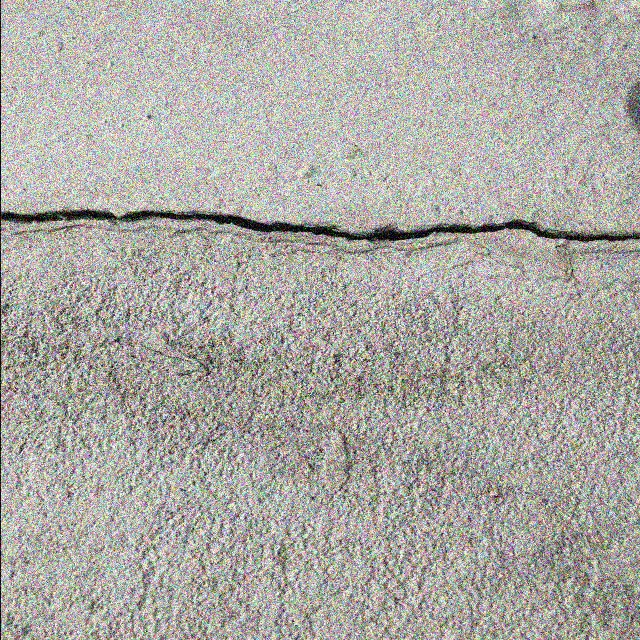SurfaceCrack: (1, 163, 640, 315)
